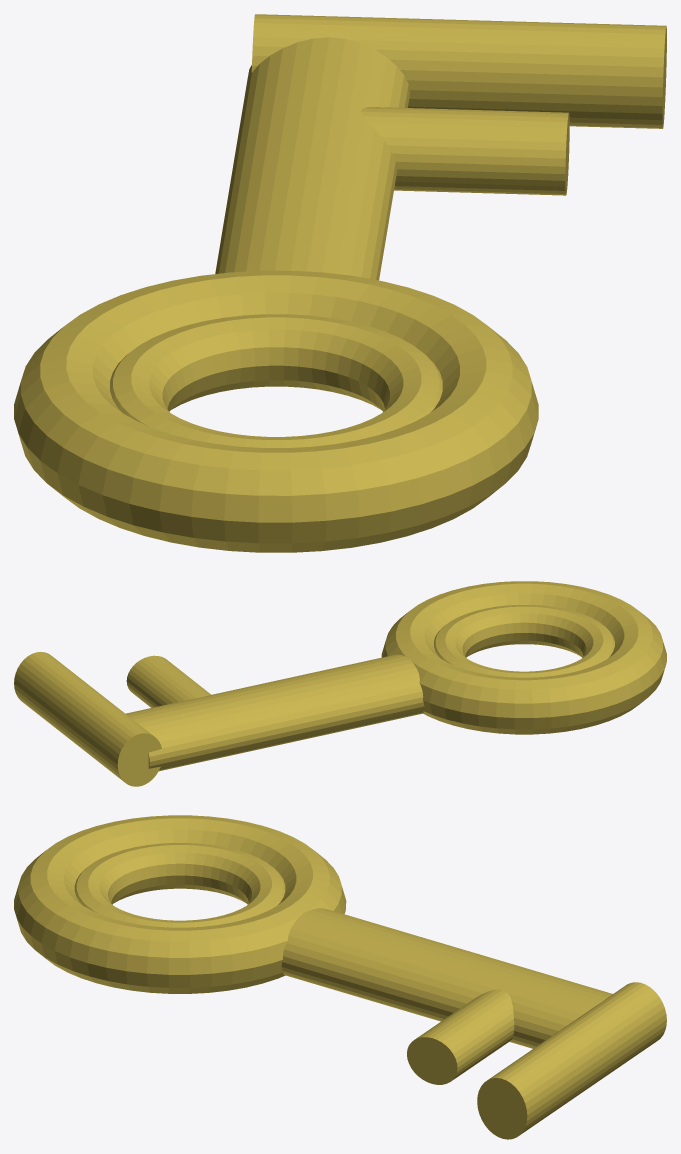
Rendered from key.fbx.
The picture shows the model from 3 angles, top to bottom: view 1: azimuth 30°, elevation 25°; view 2: azimuth 150°, elevation 25°; view 3: azimuth 270°, elevation 25°; orthographic projection. The views are drawn at different scales.
Parts seen in each view (by area): view 1: Cylinder.007; view 2: Cylinder.007; view 3: Cylinder.007.
Boxes of the visible parts, left/top/right/bottom form: Cylinder.007: left=14, top=14, right=666, bottom=552; Cylinder.007: left=14, top=581, right=666, bottom=786; Cylinder.007: left=14, top=815, right=666, bottom=1139.
Size of the model in its own units: 22.12 by 2.47 by 22.15.
